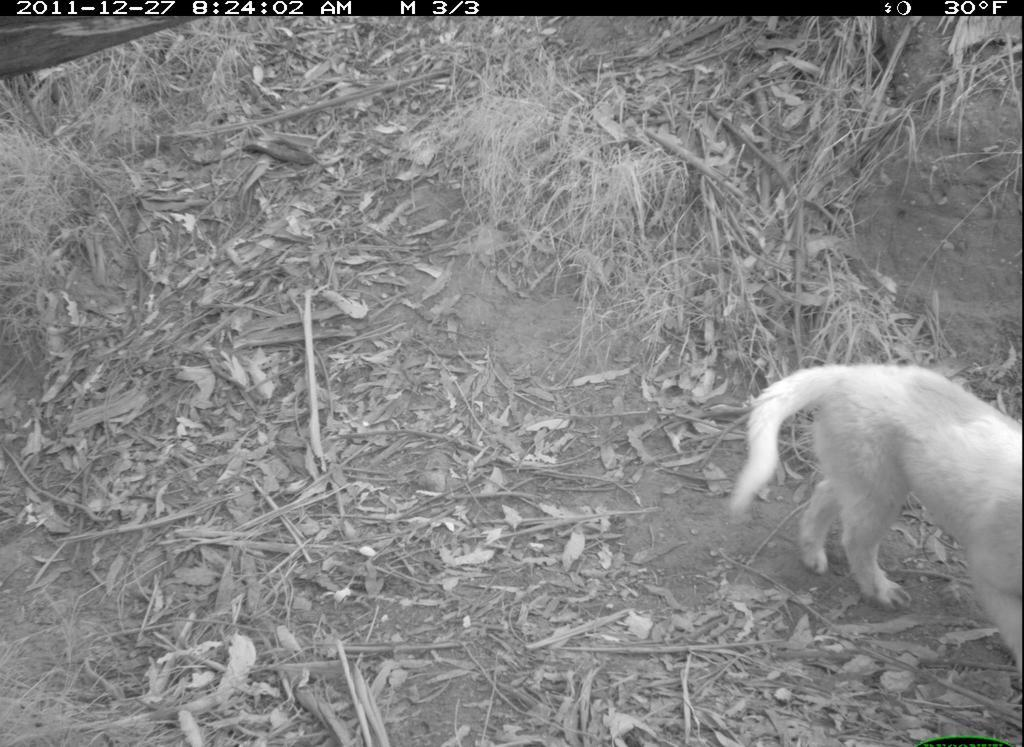dog: (718, 346, 1024, 676)
